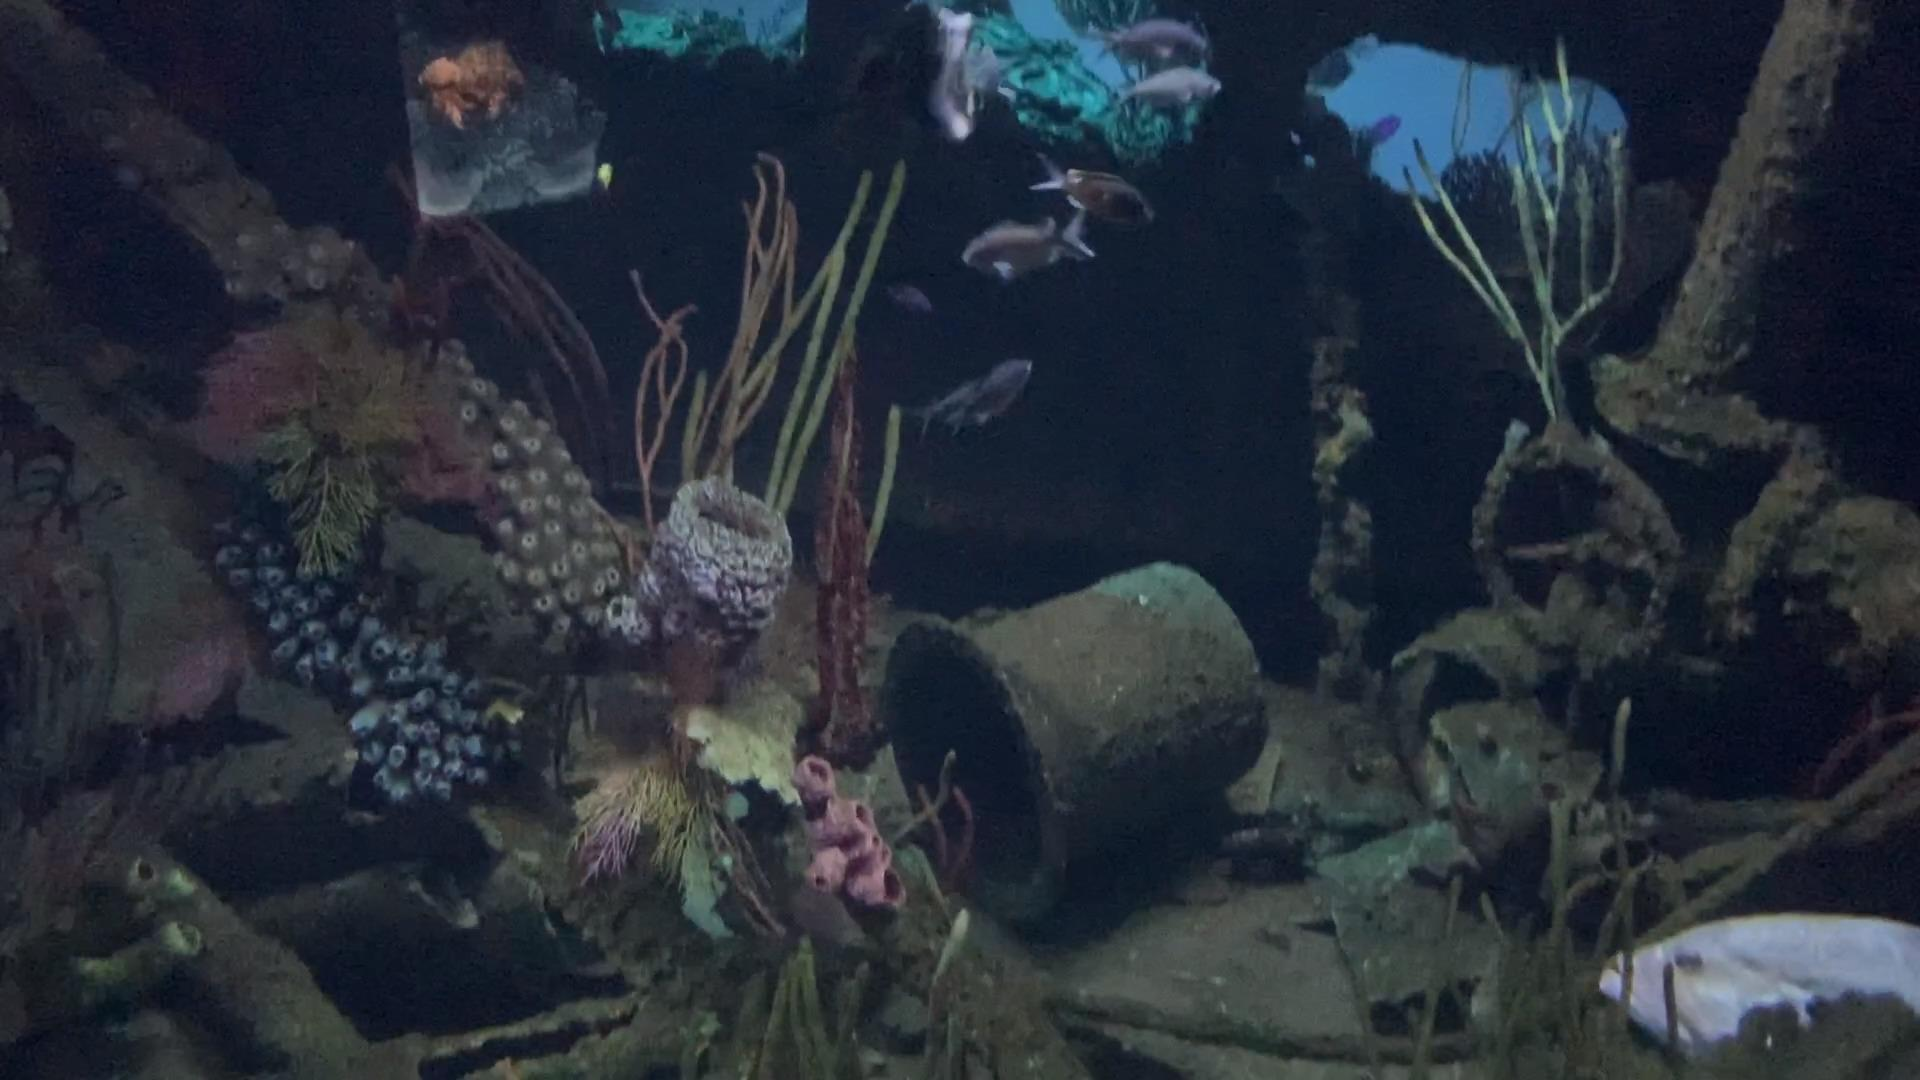fish: (1590, 903, 1920, 1071), (964, 207, 1100, 287), (928, 355, 1040, 443), (1030, 158, 1158, 233), (897, 365, 1000, 444), (1116, 65, 1229, 116), (1102, 18, 1215, 69), (884, 276, 942, 323)
